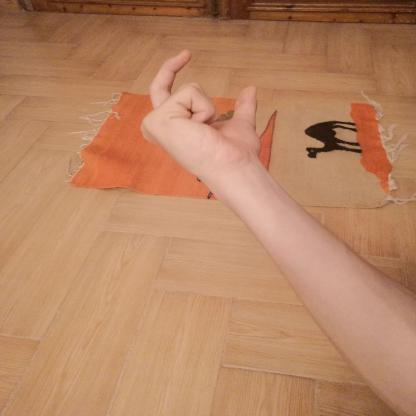NOON: (125, 43, 276, 186)
